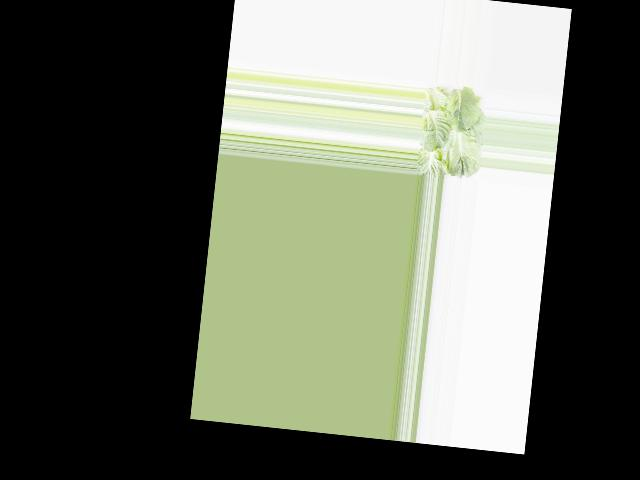lettuce: (415, 84, 486, 179)
